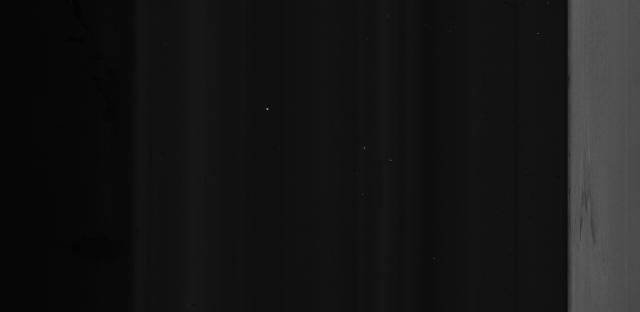silk_spot: (576, 146, 618, 264)
